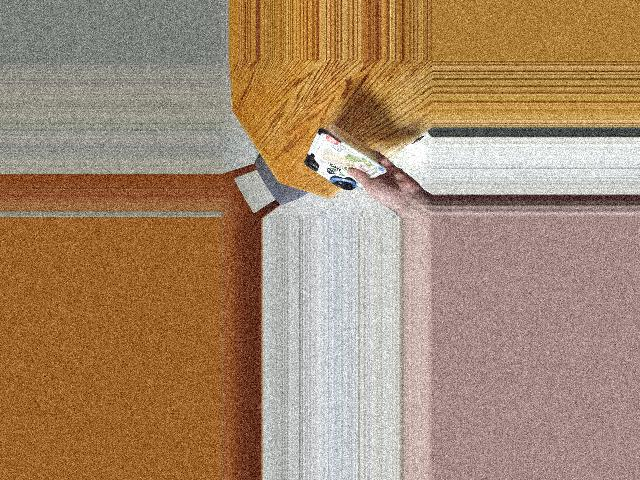cheese: (299, 111, 380, 192)
